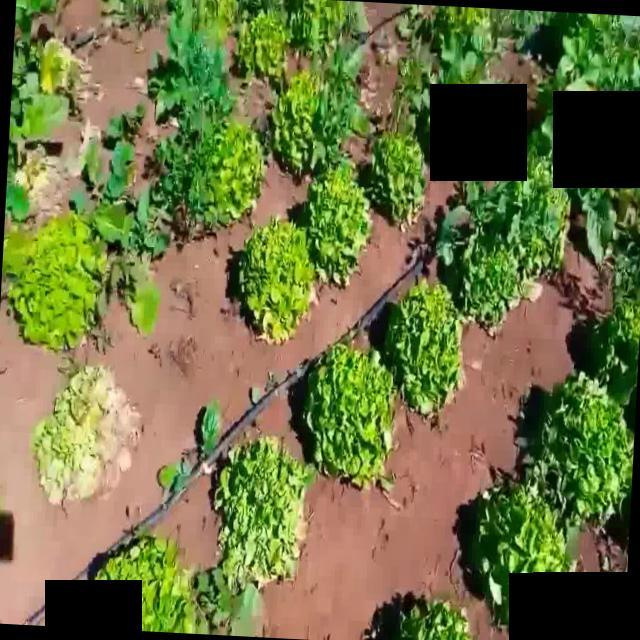Lettuce: (36, 358, 150, 506), (3, 214, 113, 355), (540, 371, 638, 517), (213, 433, 307, 583), (470, 481, 570, 621), (303, 344, 393, 488), (91, 535, 209, 640), (235, 214, 319, 343), (389, 278, 463, 413), (300, 160, 372, 286), (508, 148, 576, 264), (455, 234, 521, 326), (202, 121, 260, 222), (271, 70, 327, 174), (370, 129, 427, 224), (232, 9, 293, 84), (288, 0, 354, 52), (389, 598, 469, 640), (604, 288, 640, 366)
